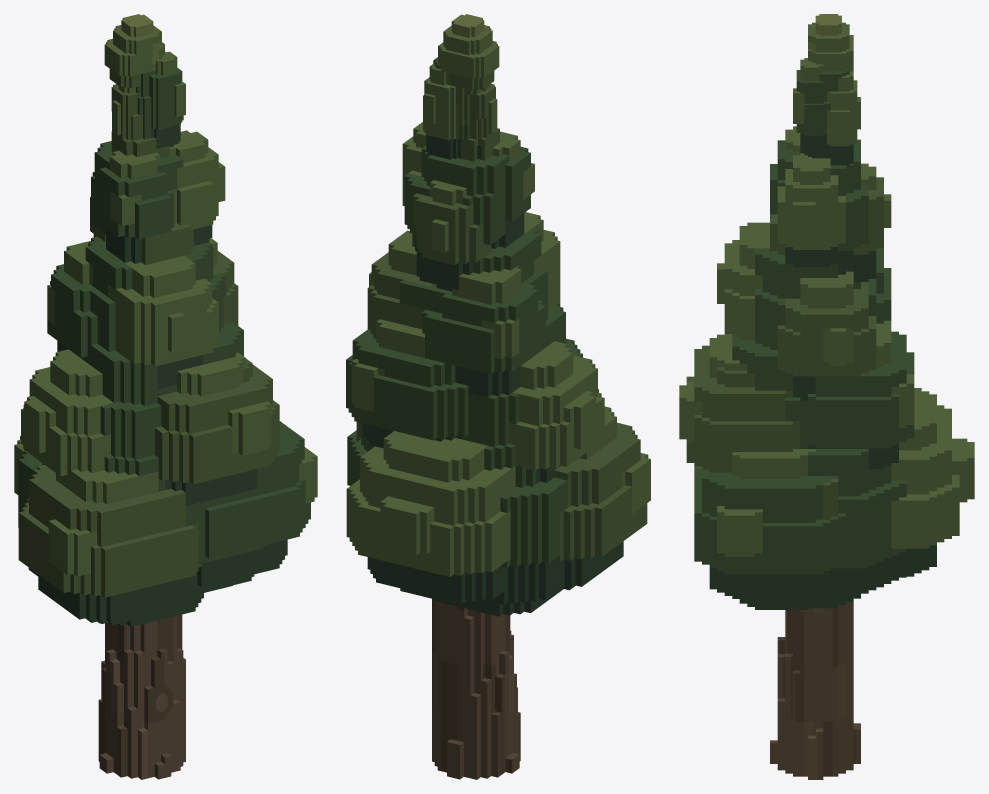
The model's file is pine_ancient_2.glb.
3 views of the same model, side by side, from view 1: azimuth 30°, elevation 25°; view 2: azimuth 150°, elevation 25°; view 3: azimuth 270°, elevation 25° (orthographic).
Visible parts, largest first — view 1: VoxelVisual; view 2: VoxelVisual; view 3: VoxelVisual.
Part boxes in pixels (<box>): VoxelVisual: <box>14,14,317,779</box>; VoxelVisual: <box>346,14,650,779</box>; VoxelVisual: <box>679,14,974,779</box>.
Size of what is drawn, in the model's own units: 9.75 by 27 by 9.75.
